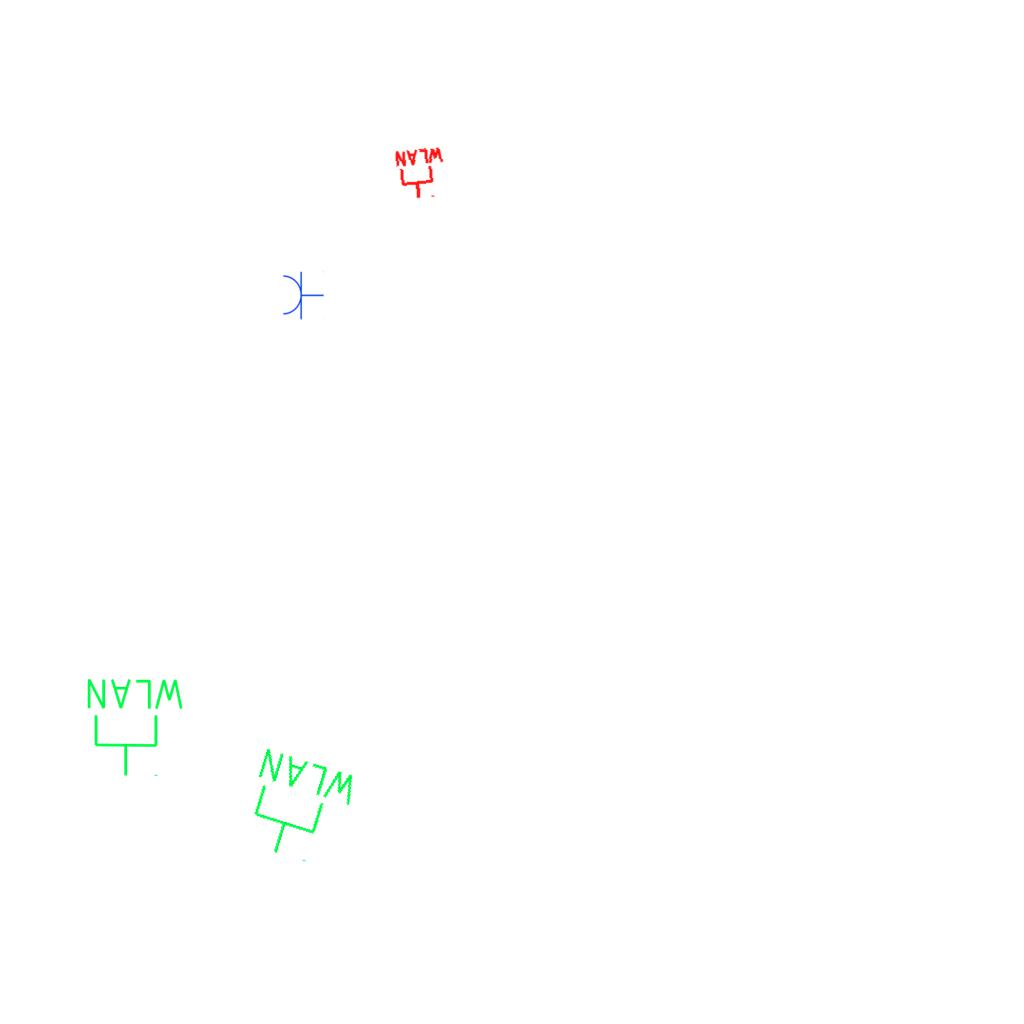Schukosteckdose_einfach: (281, 270, 324, 320)
WLAN: (233, 743, 365, 874), (83, 675, 188, 779), (392, 145, 450, 203)
